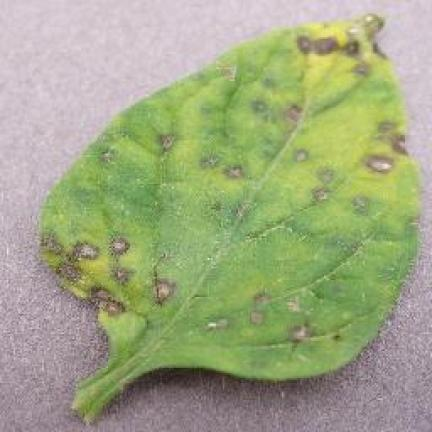disease: (40, 15, 417, 418)
leaf: (218, 66, 235, 79)
